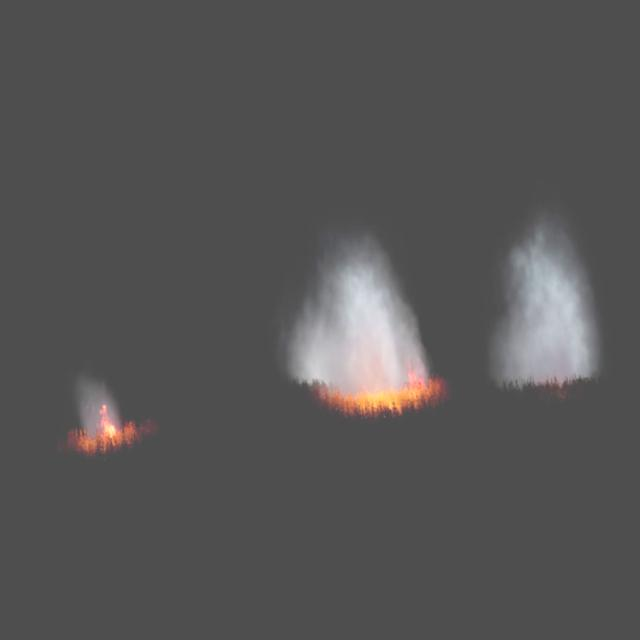fire: (310, 362, 446, 420), (97, 402, 121, 446)
smoke: (272, 229, 435, 411), (487, 226, 607, 396), (74, 379, 126, 444)
